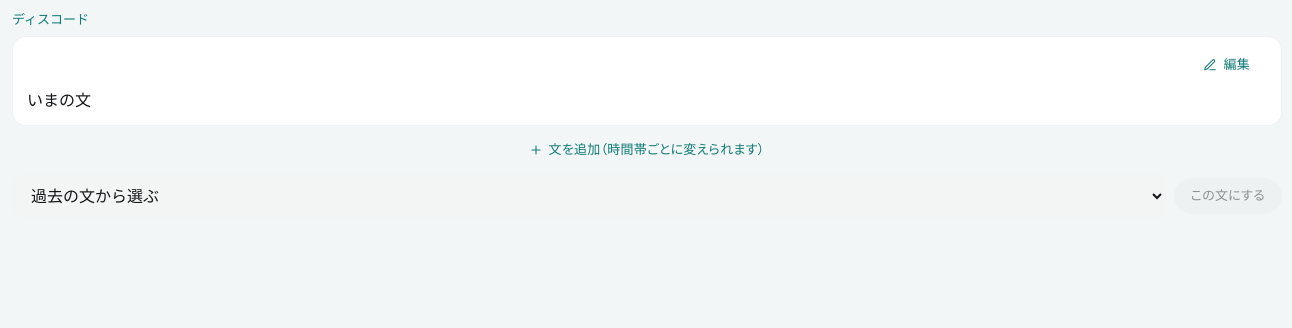
Test: ChannelTextRow（トップの一番上の、いま投稿されている文） › その場で直す（編集） › 文を書き換えて保存すると、版を添えて保存し、返事を画面に取り込む（時間帯は終日のまま）
Click the button with aria-label "ディスコードの投稿する文を編集" at (1227, 64), box [1188, 46, 1267, 82]
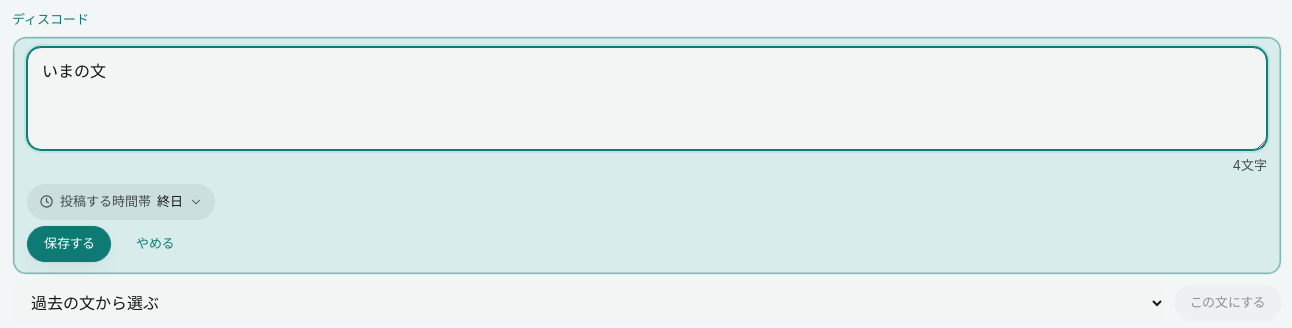
Replace the text in the text box named "ディスコードの投稿する文" with "書き換えた文" at (647, 98), box [27, 46, 1267, 150]
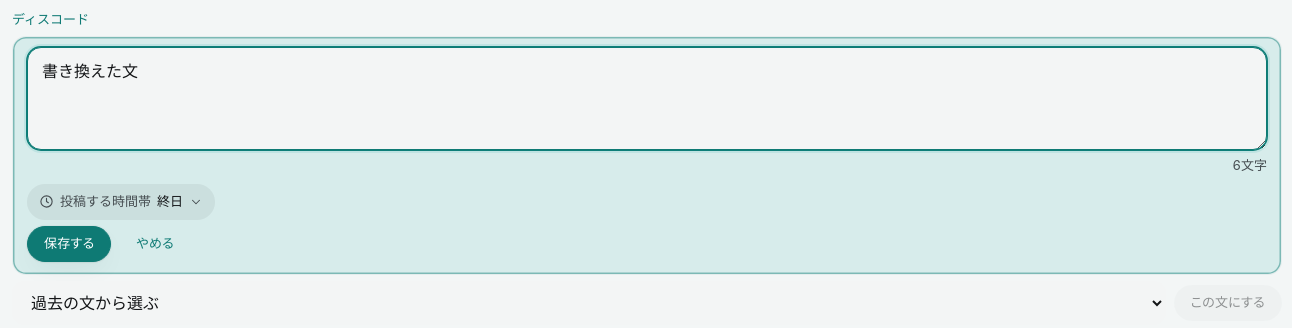
Click the button "保存する" at (69, 244), box [27, 226, 112, 262]
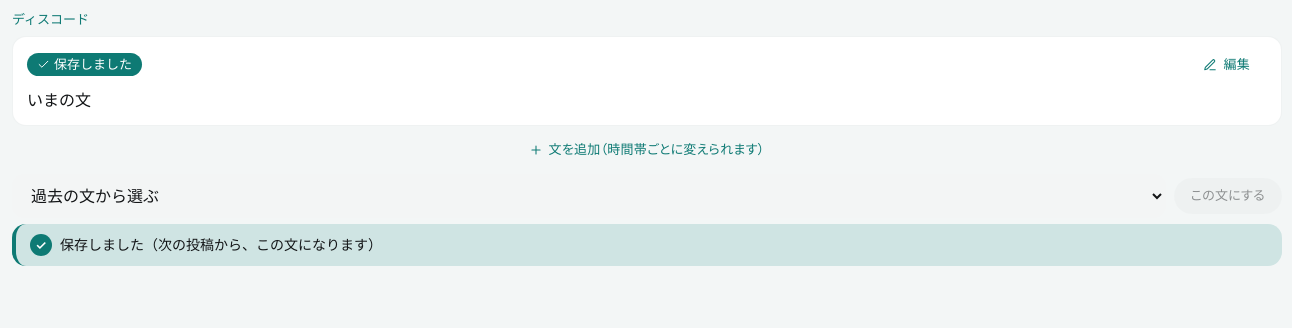
Check: the text "保存しました（次の投稿から、この文になります）" is shown, box [12, 224, 1282, 266]
